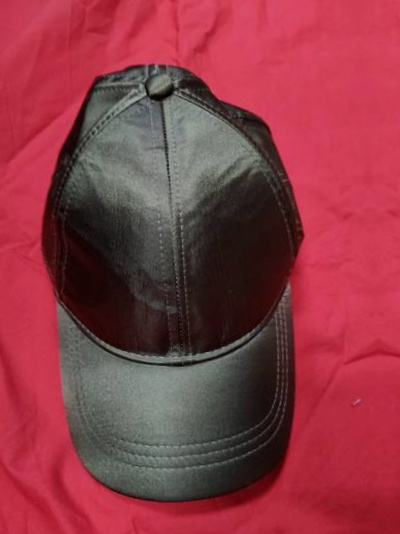Hat: (7, 39, 343, 521)
